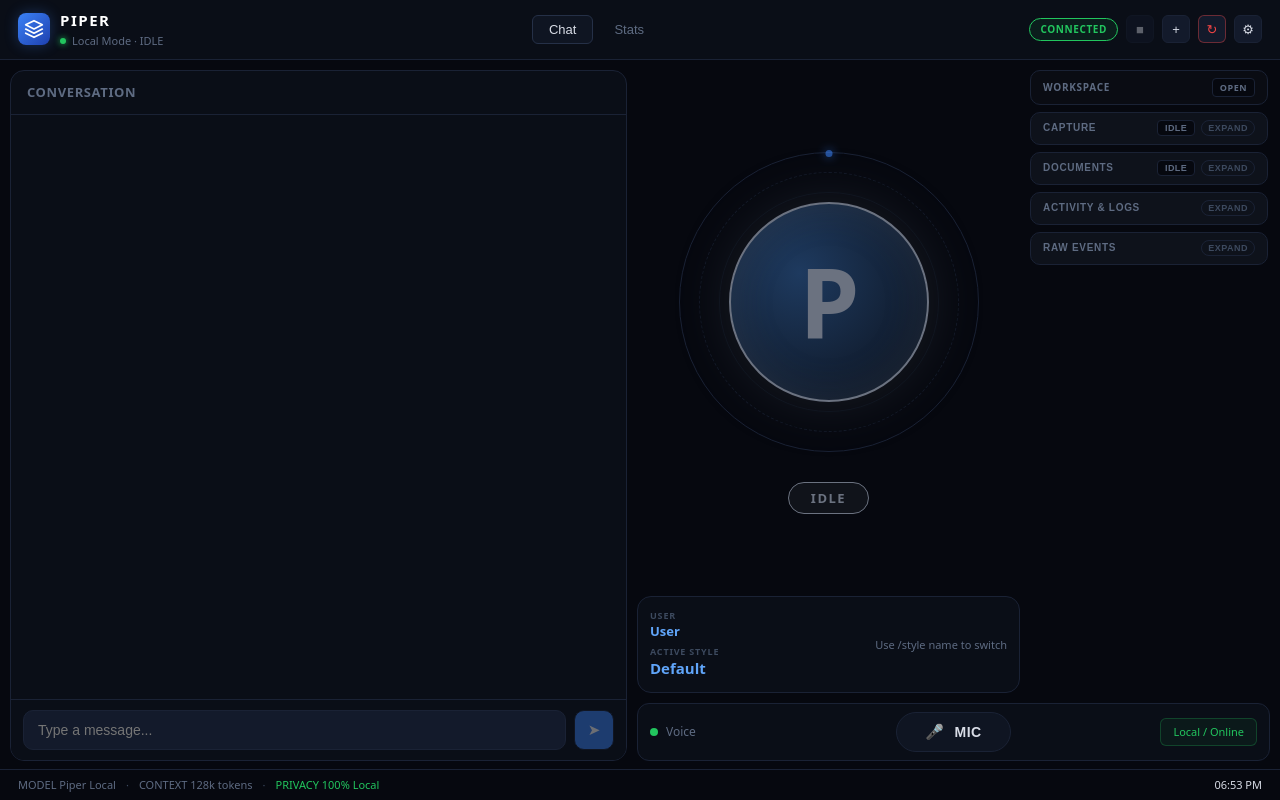
Test: App view switching › switches to Stats view when Stats tab is clicked
Click the button with class "nav-tab" showing "Stats": point(629, 29) [597,15,661,44]
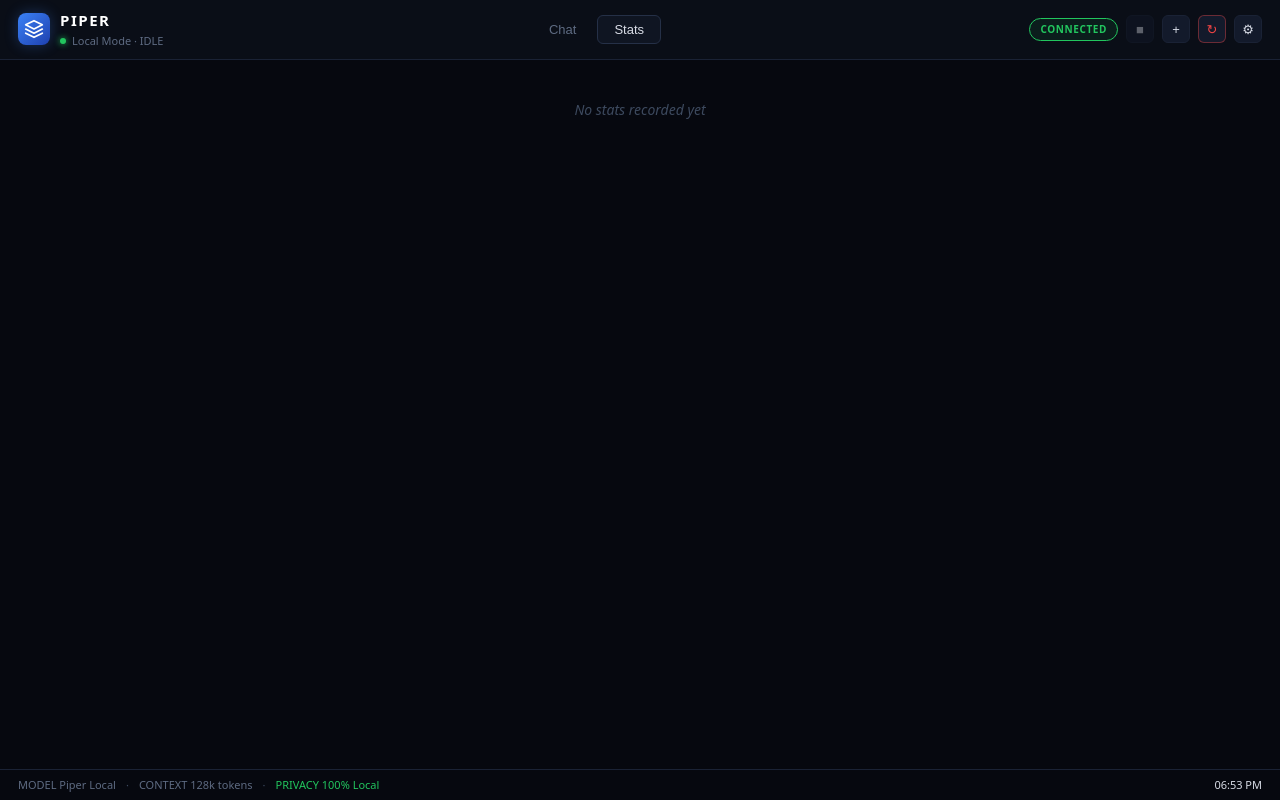
Check: the element with class "stats-view-content" is shown, box [574,100,706,119]
Check: the field with class "chat-input" is gone
